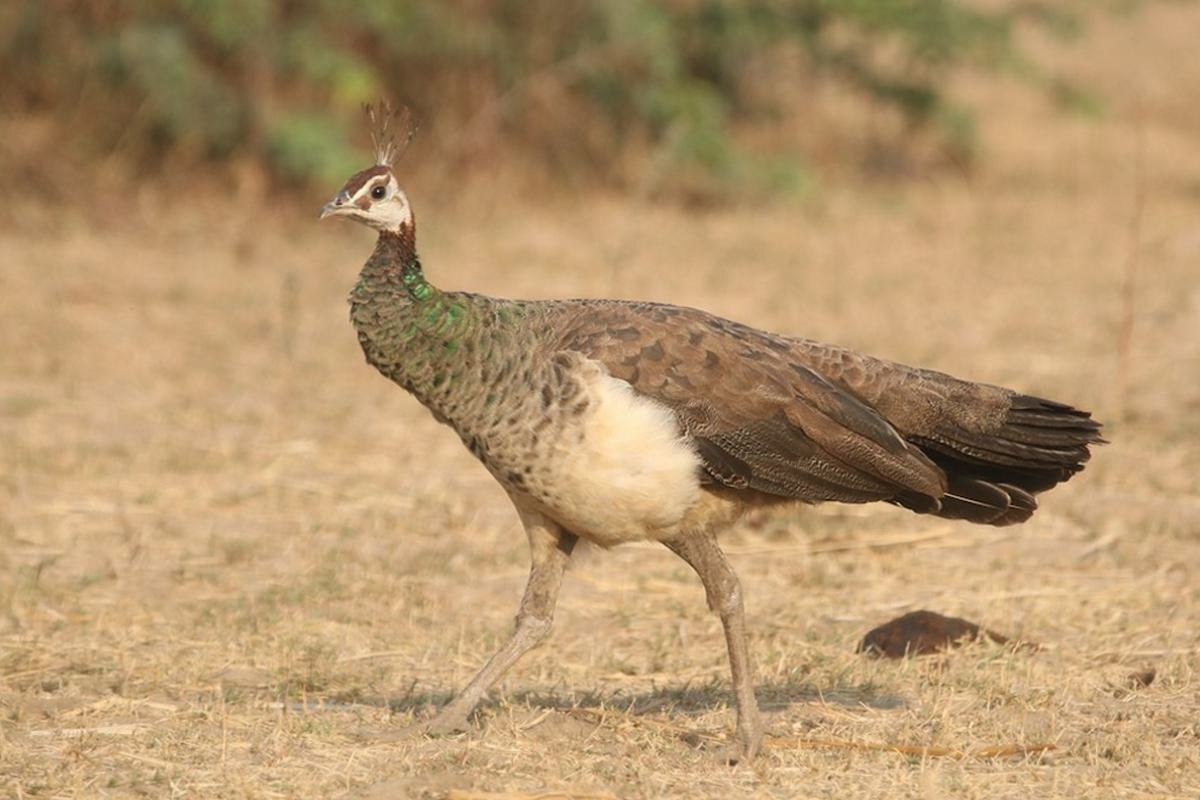peacock: (291, 112, 1100, 736)
